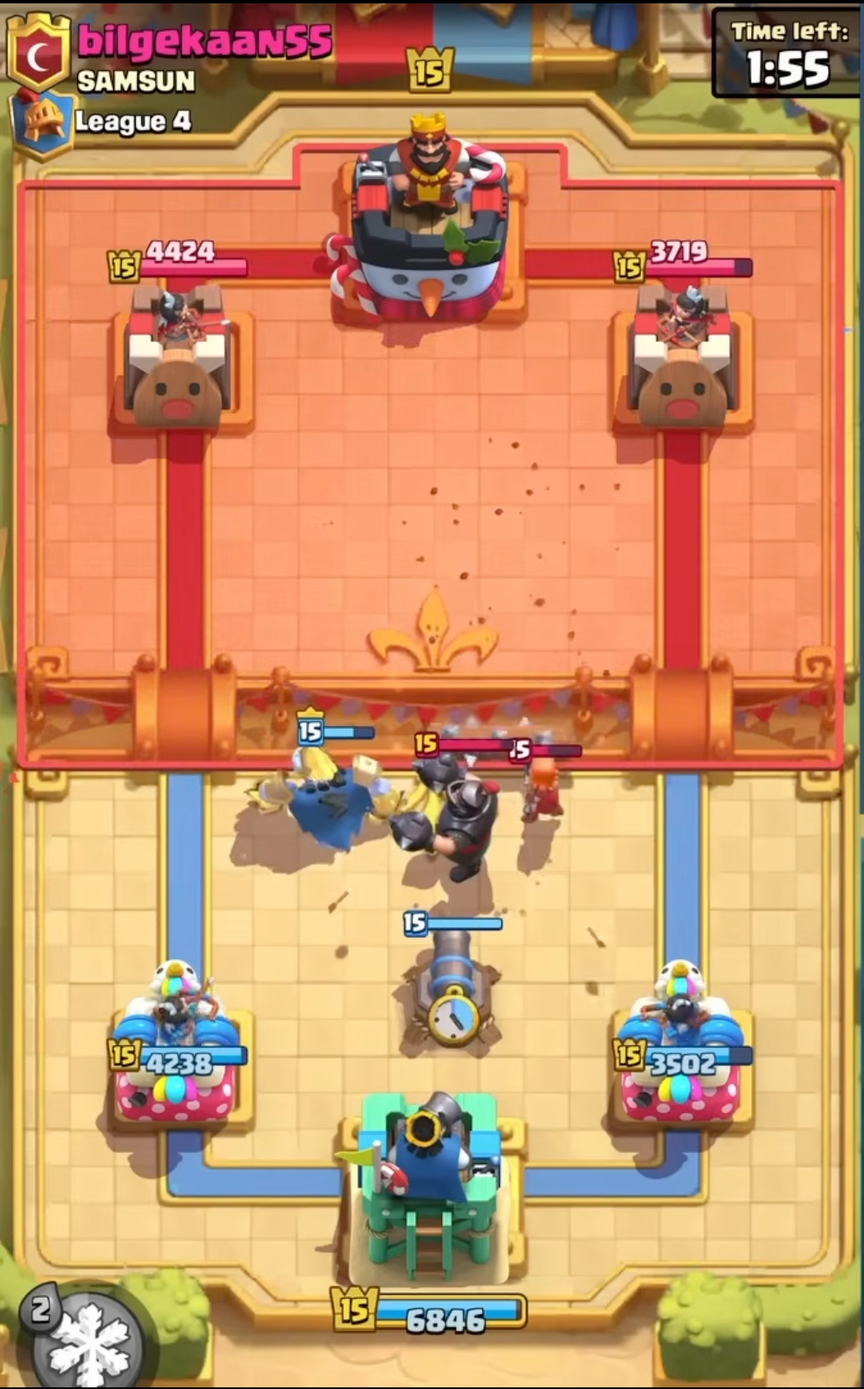cannon: (389, 902, 511, 1055)
hero-ice-golem: (242, 703, 401, 858)
